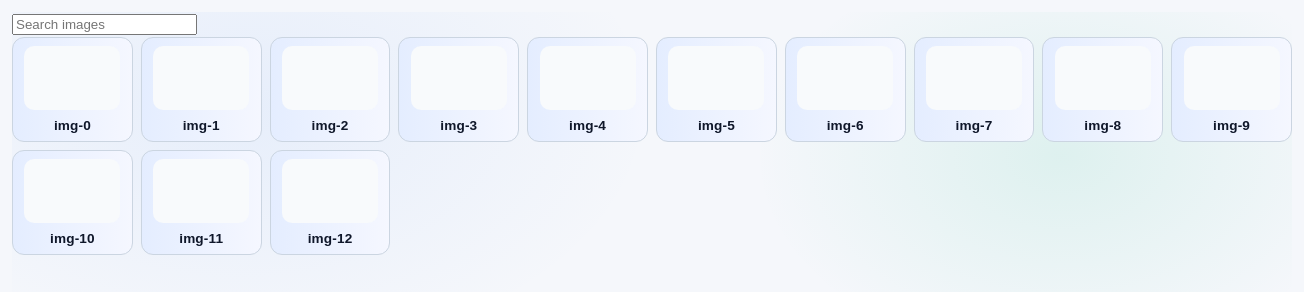
Scenario: ImagePickerField › shows the search box only for more than 12 images
In the search field: (104, 24) [12,14,197,35], type "img-12"
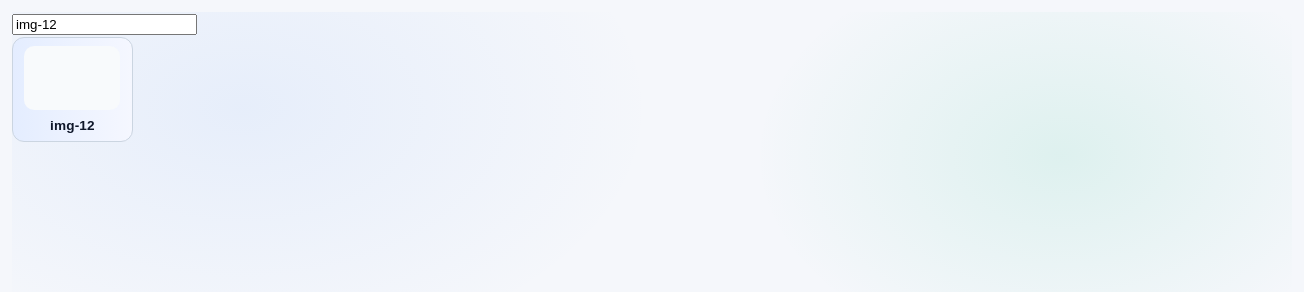
Expected: the number of radio buttons is 1, [12,37,133,142]
